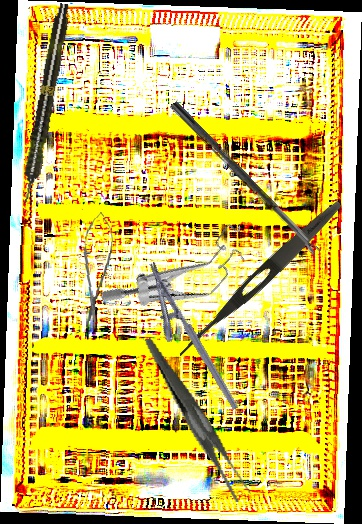Dressing Forceps: (174, 196, 346, 363), (144, 323, 253, 515)
Handpiece: (16, 2, 74, 205)
Micro Scissor: (76, 210, 116, 330)
Needle Holder: (128, 261, 240, 422)
Speculum: (97, 185, 262, 354)
Surgical Spoon: (169, 100, 321, 258)
